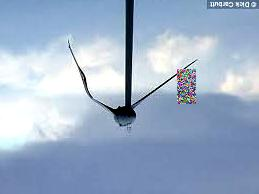faulty: (65, 55, 168, 137)
